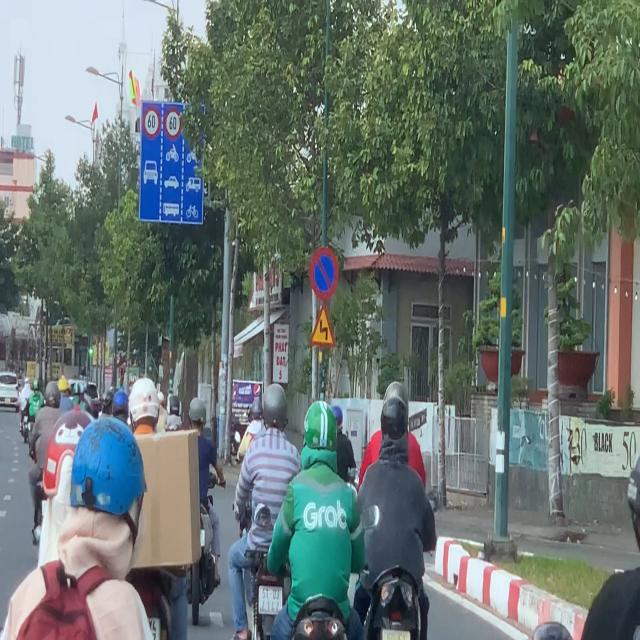Cam do: (310, 247, 338, 300)
Nguy hiem: (309, 304, 336, 348)
Toc do toi da: (142, 106, 161, 138), (164, 108, 182, 139)
